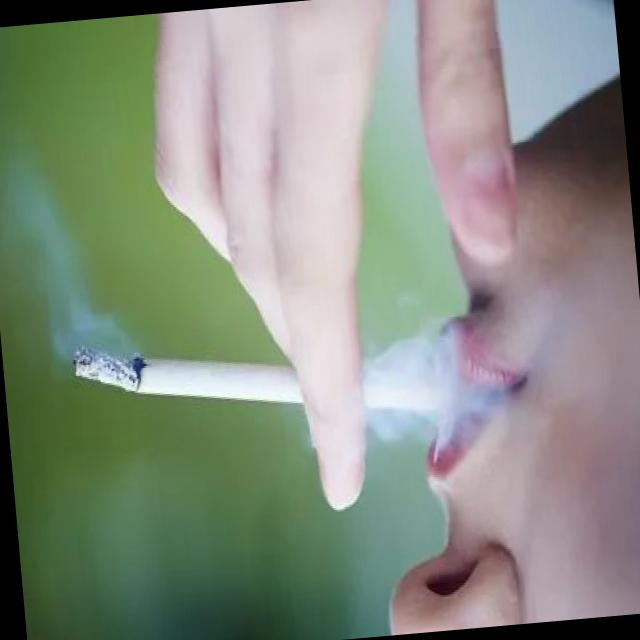smoke: (61, 308, 450, 457)
